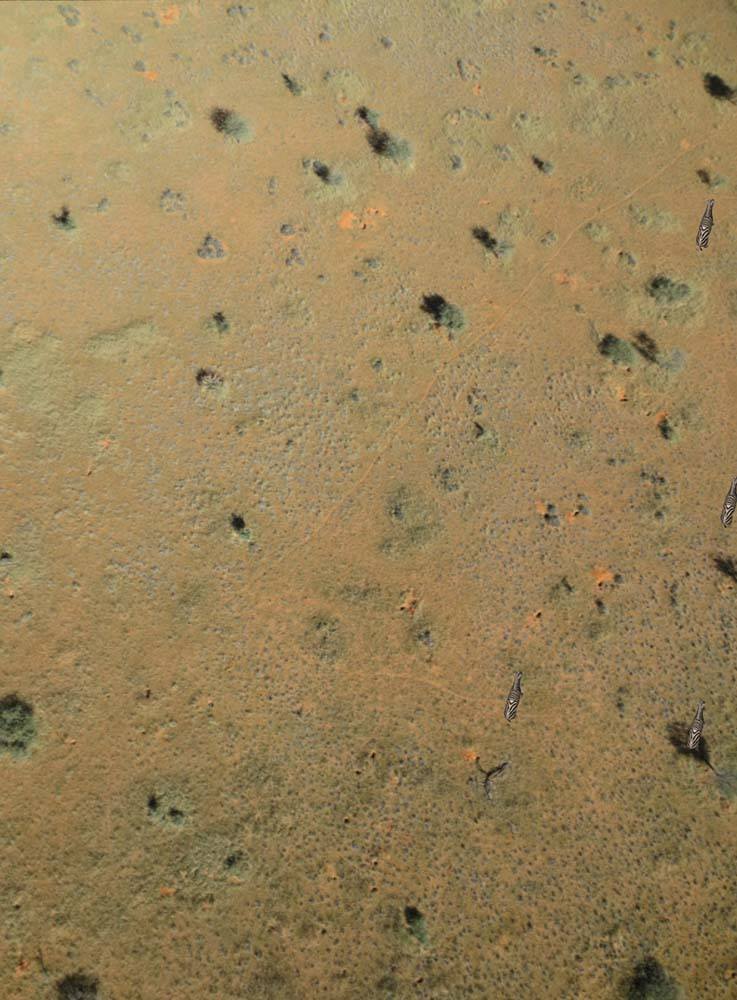zebra: (681, 702, 709, 758), (503, 662, 527, 727), (693, 194, 718, 249), (718, 473, 737, 531)
